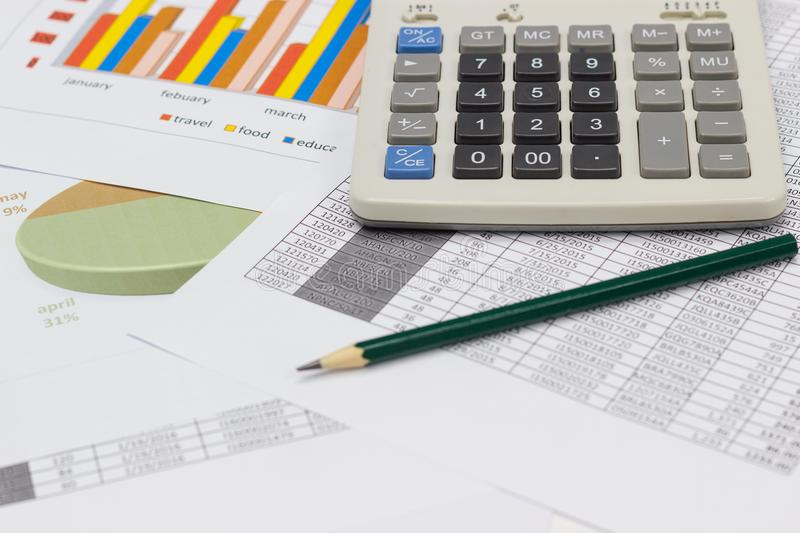Calculator: (351, 1, 793, 236)
